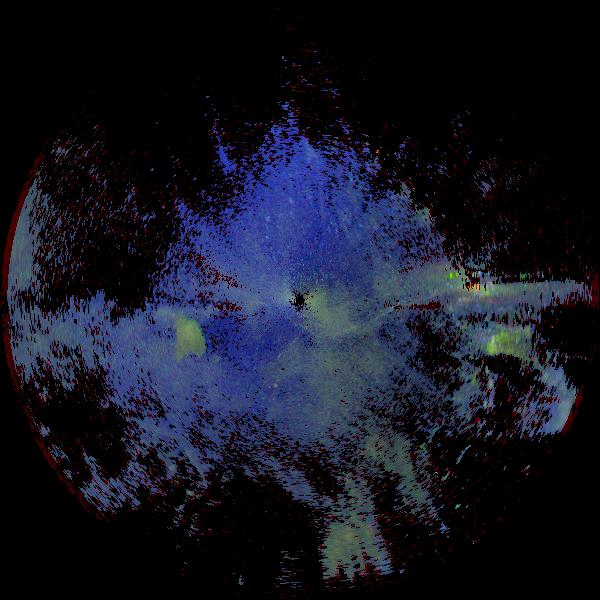roost: (128, 291, 221, 384)
